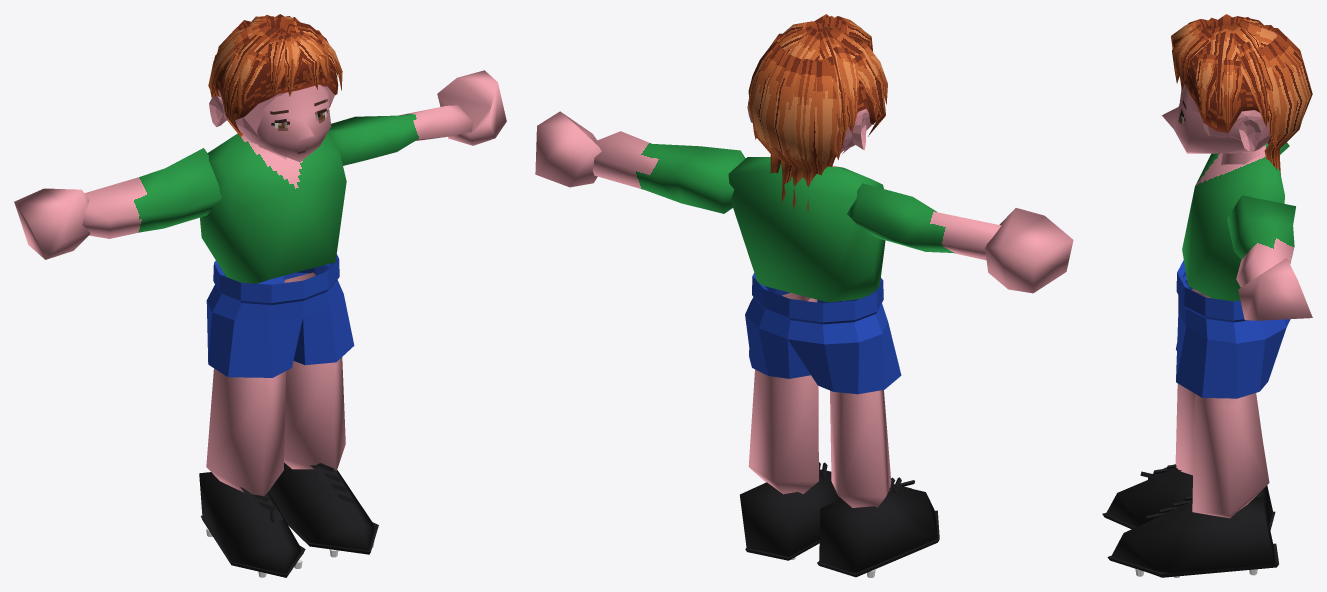
File: 07-mullet_ruivo.glb
3 renders of one model, left to right at view 1: azimuth 30°, elevation 25°; view 2: azimuth 150°, elevation 25°; view 3: azimuth 270°, elevation 25°, orthographic. The views are drawn at different scales.
Parts seen in each view (by area): view 1: Camisa_Tronco, Bermuda, Cabelo, Perna.R, Braco.R, Perna.L, Chuteira.R, Chuteira.L, Braco.L, Cabeca, Mao.R, Mao.L (+3 smaller); view 2: Cabelo, Camisa_Tronco, Bermuda, Perna.L, Braco.L, Chuteira.R, Perna.R, Braco.R, Mao.R, Chuteira.L, Mao.L, Chuteira_Sola.R; view 3: Cabelo, Bermuda, Chuteira.L, Camisa_Tronco, Perna.L, Braco.L, Mao.L, Chuteira.R, Cabeca, Perna.R, Chuteira_Sola.L, Cranio (+4 smaller).
Boxes of the visible parts, x1=… form: Camisa_Tronco: x1=200, y1=133, x2=346, y2=283; Bermuda: x1=206, y1=254, x2=354, y2=377; Cabelo: x1=208, y1=14, x2=342, y2=137; Perna.R: x1=206, y1=368, x2=286, y2=500; Braco.R: x1=82, y1=148, x2=222, y2=238; Perna.L: x1=284, y1=272, x2=345, y2=471; Chuteira.R: x1=199, y1=472, x2=303, y2=573; Chuteira.L: x1=269, y1=462, x2=374, y2=550; Braco.L: x1=328, y1=105, x2=473, y2=165; Cabeca: x1=236, y1=84, x2=331, y2=162; Mao.R: x1=14, y1=188, x2=90, y2=259; Mao.L: x1=437, y1=70, x2=506, y2=145; Cabelo: x1=748, y1=14, x2=887, y2=211; Camisa_Tronco: x1=728, y1=157, x2=885, y2=302; Bermuda: x1=745, y1=273, x2=901, y2=394; Perna.L: x1=748, y1=293, x2=818, y2=494; Braco.L: x1=593, y1=131, x2=745, y2=213; Chuteira.R: x1=819, y1=484, x2=937, y2=572; Perna.R: x1=830, y1=390, x2=891, y2=507; Braco.R: x1=847, y1=183, x2=1001, y2=260; Mao.R: x1=985, y1=208, x2=1073, y2=293; Chuteira.L: x1=740, y1=469, x2=841, y2=556; Mao.L: x1=535, y1=111, x2=601, y2=187; Chuteira_Sola.R: x1=817, y1=510, x2=939, y2=577; Cabelo: x1=1171, y1=14, x2=1312, y2=174; Bermuda: x1=1176, y1=260, x2=1290, y2=398; Chuteira.L: x1=1111, y1=497, x2=1276, y2=577; Camisa_Tronco: x1=1182, y1=143, x2=1284, y2=301; Perna.L: x1=1192, y1=393, x2=1269, y2=518; Braco.L: x1=1227, y1=195, x2=1295, y2=287; Mao.L: x1=1238, y1=258, x2=1312, y2=320; Chuteira.R: x1=1106, y1=467, x2=1272, y2=526; Cabeca: x1=1162, y1=84, x2=1254, y2=153; Perna.R: x1=1175, y1=288, x2=1262, y2=475; Chuteira_Sola.L: x1=1107, y1=543, x2=1278, y2=577; Cranio: x1=1202, y1=110, x2=1270, y2=153.
Bounding box in the file's own units: 0.4523 × 0.45 × 0.1617.
Materials: 3 (3 with a texture image).
